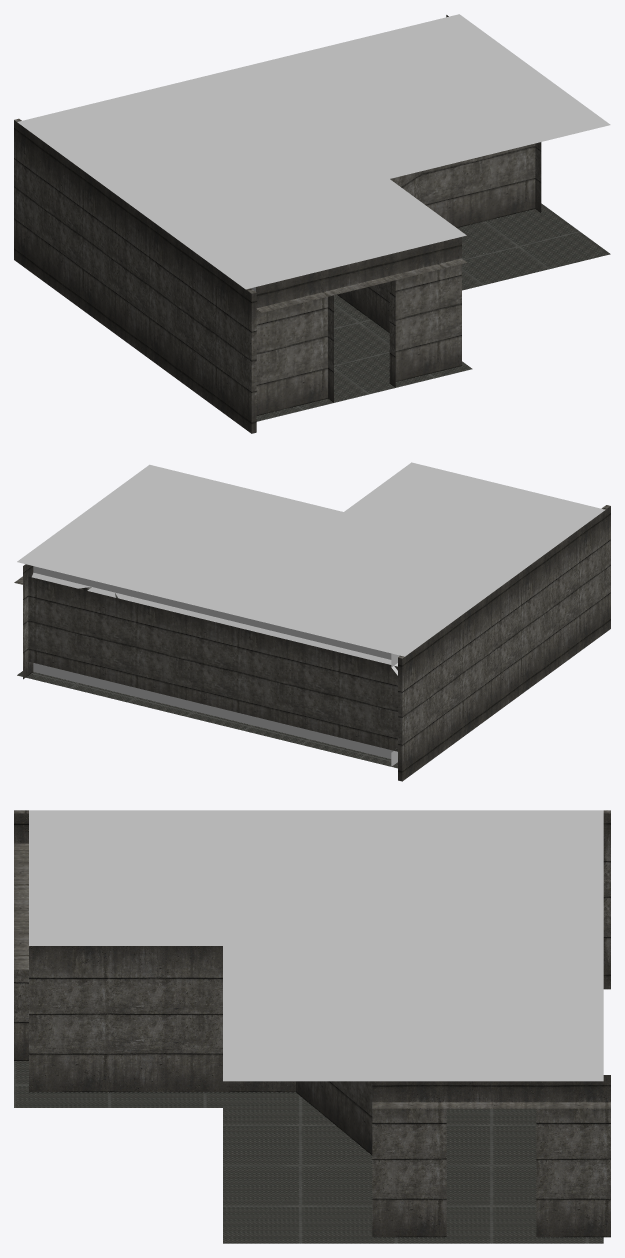
The model's file is HC_room2C.gltf.
3 views of the same model, one above another, from view 1: azimuth 30°, elevation 25°; view 2: azimuth 150°, elevation 25°; view 3: azimuth 270°, elevation 25° (orthographic). The views are drawn at different scales.
Parts seen in each view (by area): view 1: HC_room2C; view 2: HC_room2C; view 3: HC_room2C.
Part boxes in pixels (<box>): HC_room2C: <box>14,14,610,433</box>; HC_room2C: <box>14,462,610,781</box>; HC_room2C: <box>14,810,610,1243</box>.
Size of the model in its own units: 13.76 by 4.16 by 12.8.
